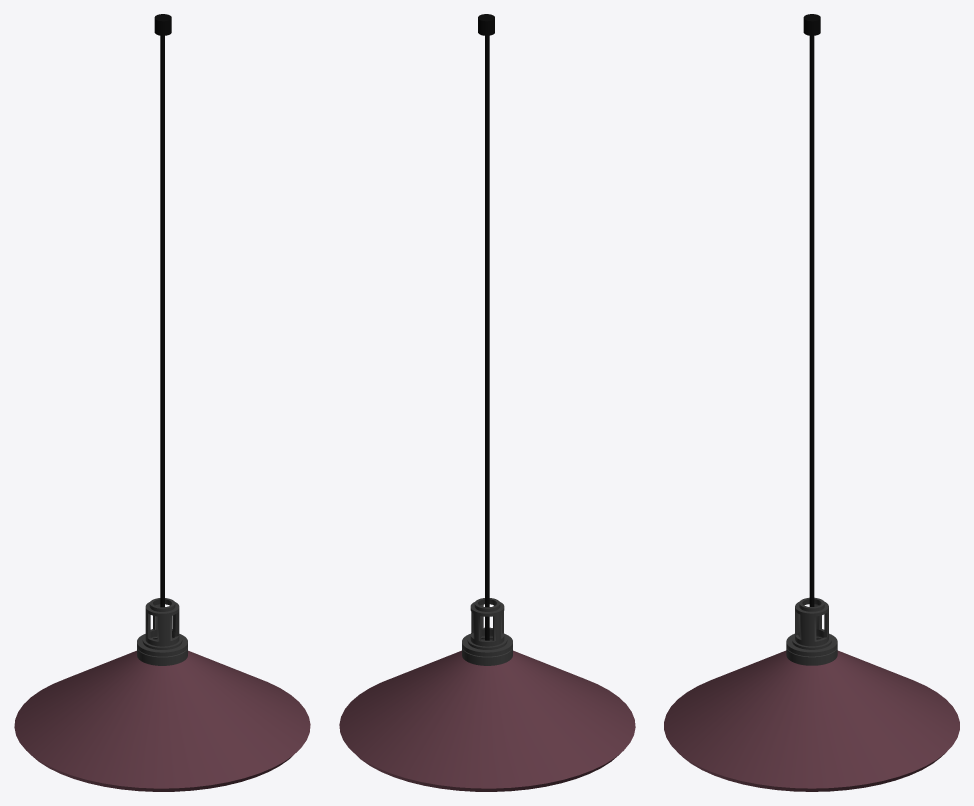
File: CGT_CeilingLight_052.fbx
3 views of the same model, side by side, from view 1: azimuth 30°, elevation 25°; view 2: azimuth 150°, elevation 25°; view 3: azimuth 270°, elevation 25° (orthographic).
Parts seen in each view (by area): view 1: CGT_CeilingLight_052; view 2: CGT_CeilingLight_052; view 3: CGT_CeilingLight_052.
Boxes of the visible parts, x1,y1,x2,y2 form: CGT_CeilingLight_052: [14, 14, 310, 791]; CGT_CeilingLight_052: [339, 14, 635, 791]; CGT_CeilingLight_052: [664, 14, 959, 791].
Size of the model in its own units: 67.52 by 67.39 by 180.
